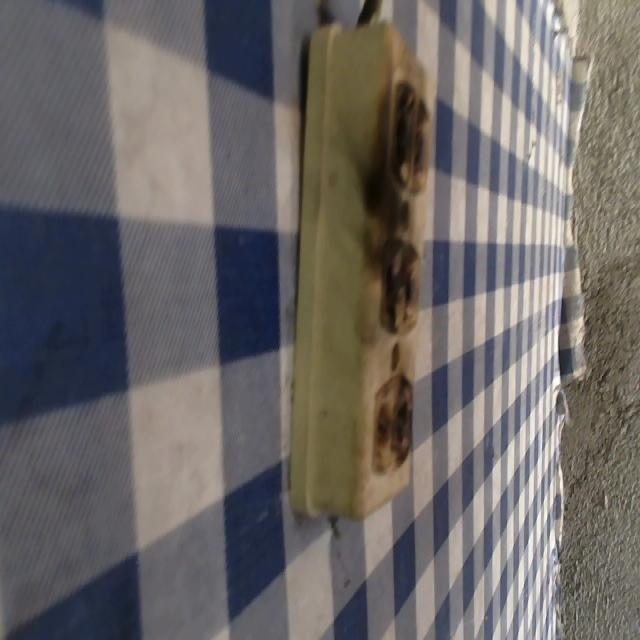-: (387, 76, 431, 196), (370, 369, 413, 476), (380, 230, 419, 334)
